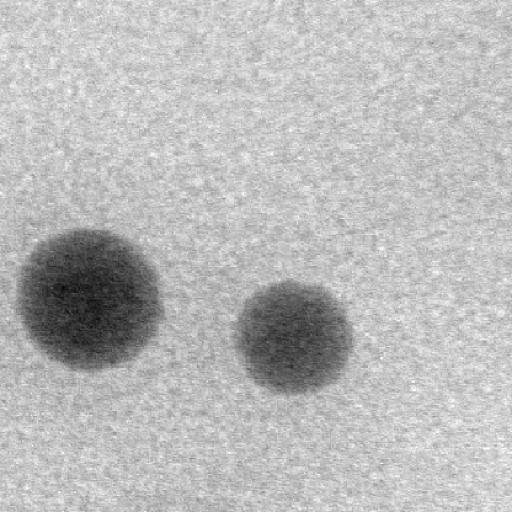Nanoparticles: (18, 229, 178, 374), (237, 278, 351, 401)
